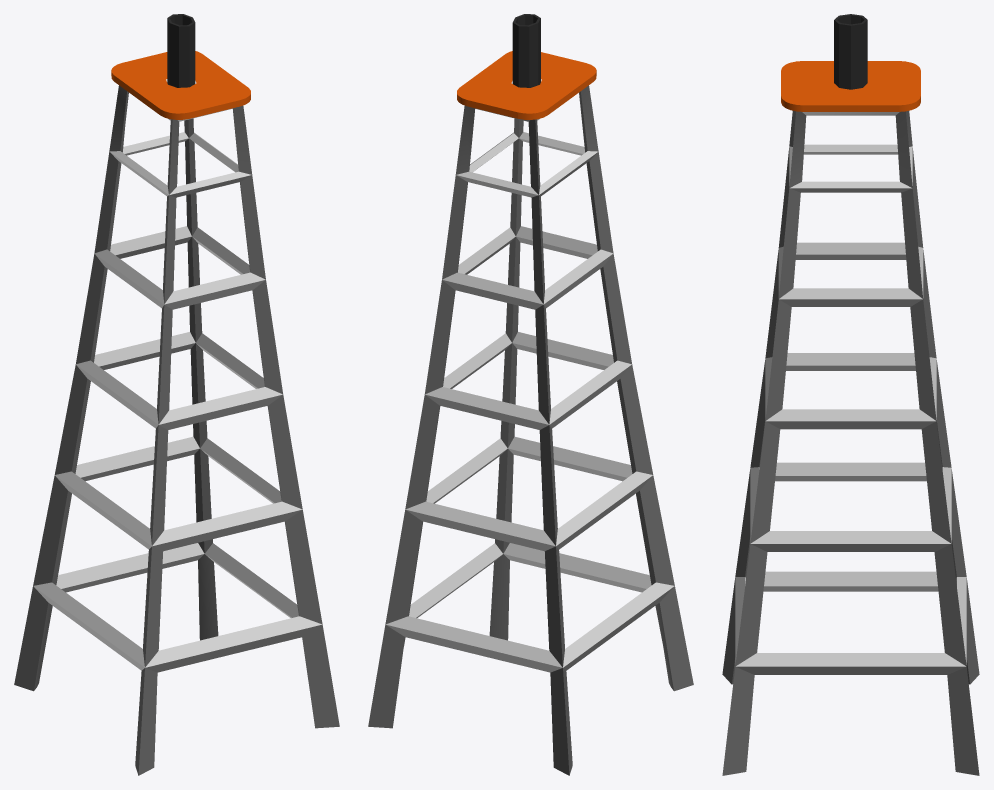
File: Power_tower_new.fbx
3 views of the same model, side by side, from view 1: azimuth 30°, elevation 25°; view 2: azimuth 150°, elevation 25°; view 3: azimuth 270°, elevation 25° (orthographic). The views are drawn at different scales.
Parts seen in each view (by area): view 1: Cylinder; view 2: Cylinder; view 3: Cylinder.
Part boxes in pixels (bbox=[...]): Cylinder: bbox=[14, 14, 339, 775]; Cylinder: bbox=[368, 14, 693, 775]; Cylinder: bbox=[722, 14, 979, 775].
Size of the model in its own units: 154 by 500 by 165.
